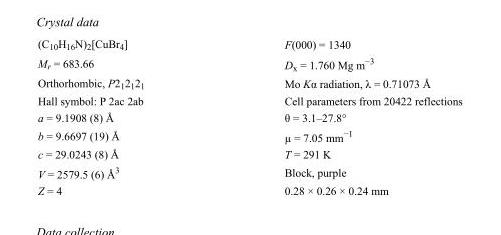table: (37, 36, 461, 196)
table column: (213, 36, 461, 196), (37, 36, 213, 196)
table row: (37, 53, 461, 74), (37, 125, 461, 145), (37, 162, 461, 181), (37, 74, 461, 92), (37, 36, 461, 53), (37, 108, 461, 125), (37, 145, 461, 162), (37, 92, 461, 108), (37, 181, 461, 196)
